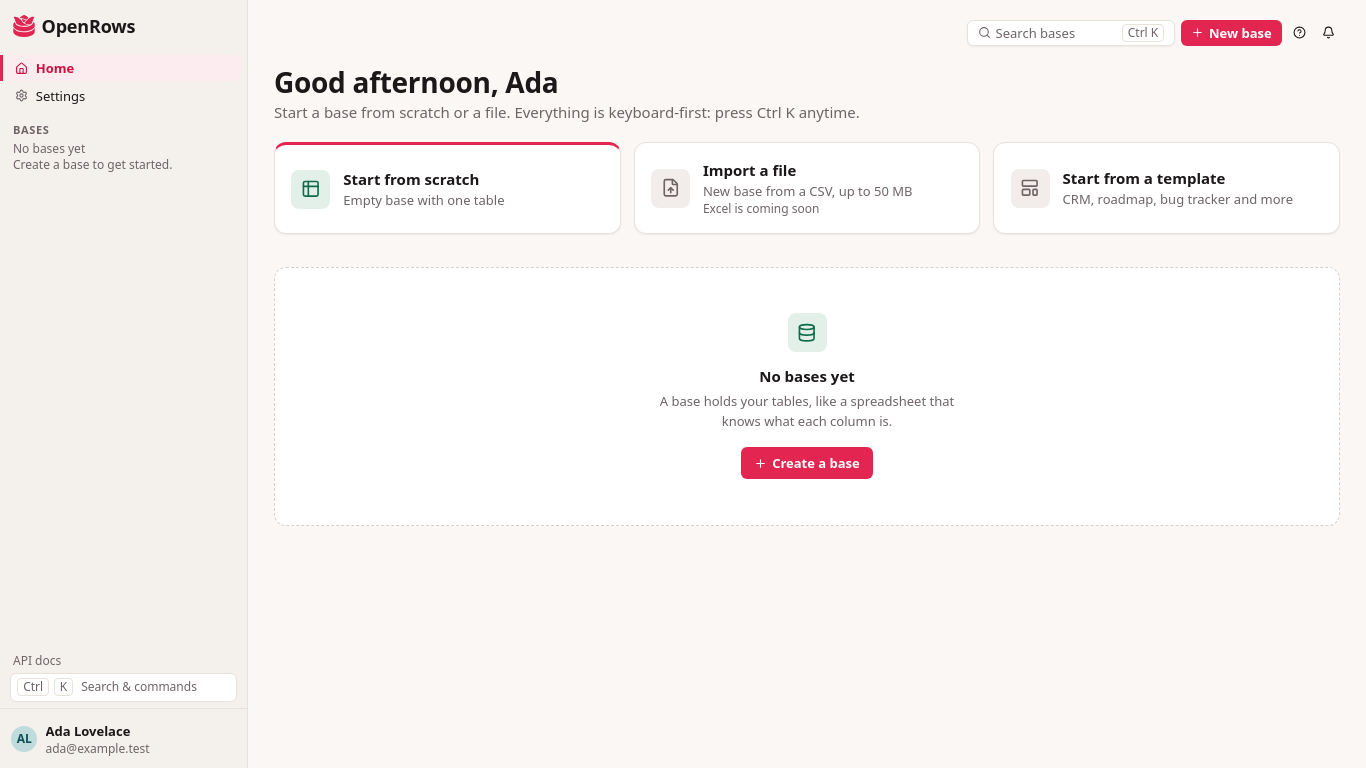
app shell › greets a new user with an empty state, creates a first base and opens it
Expected: the heading "No bases yet" is shown, x1=759 y1=365 x2=855 y2=387
Expected: the heading "Good afternoon, Ada" is shown, x1=274 y1=63 x2=558 y2=101
Click the button "Create a base": [807, 463] box x1=741 y1=447 x2=873 y2=479
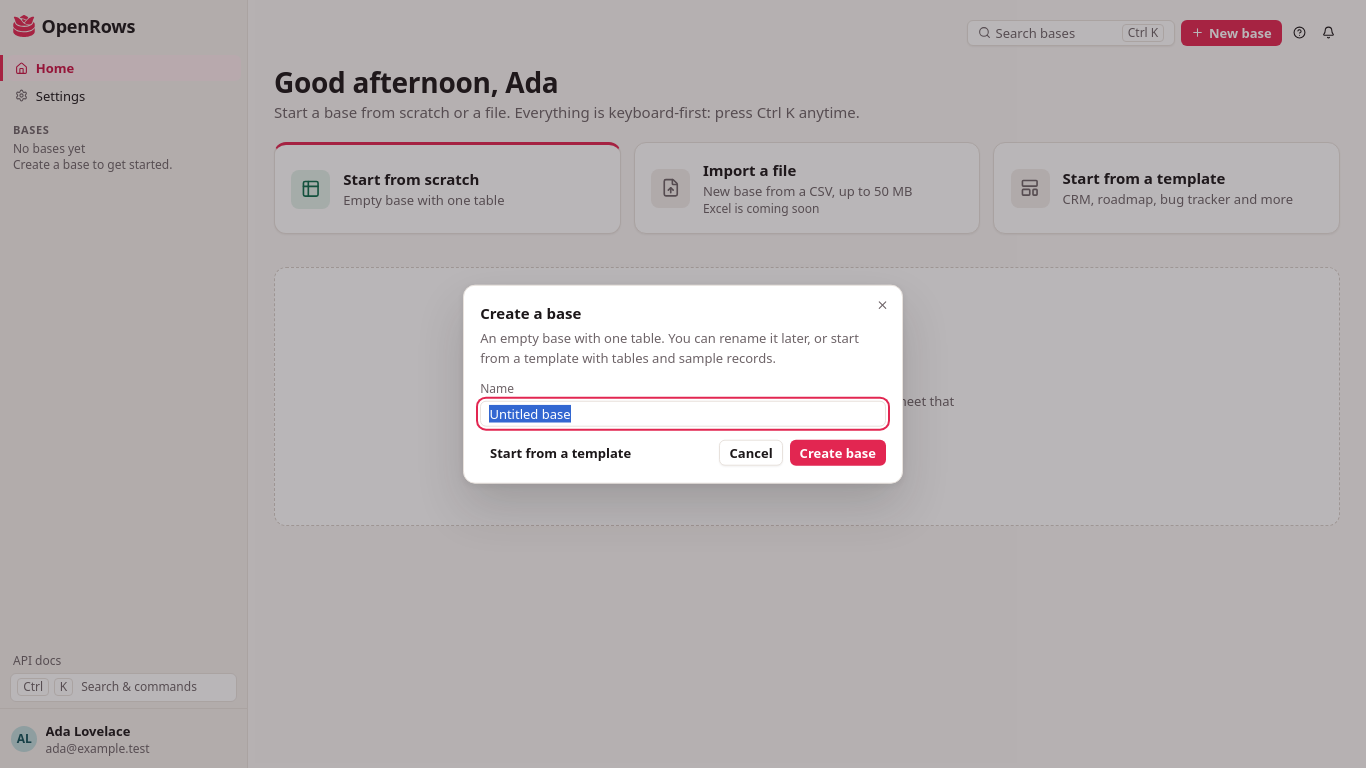
Replace the text in the field labelled "Name" with "Roadmap": [683, 414] box x1=480 y1=401 x2=886 y2=427
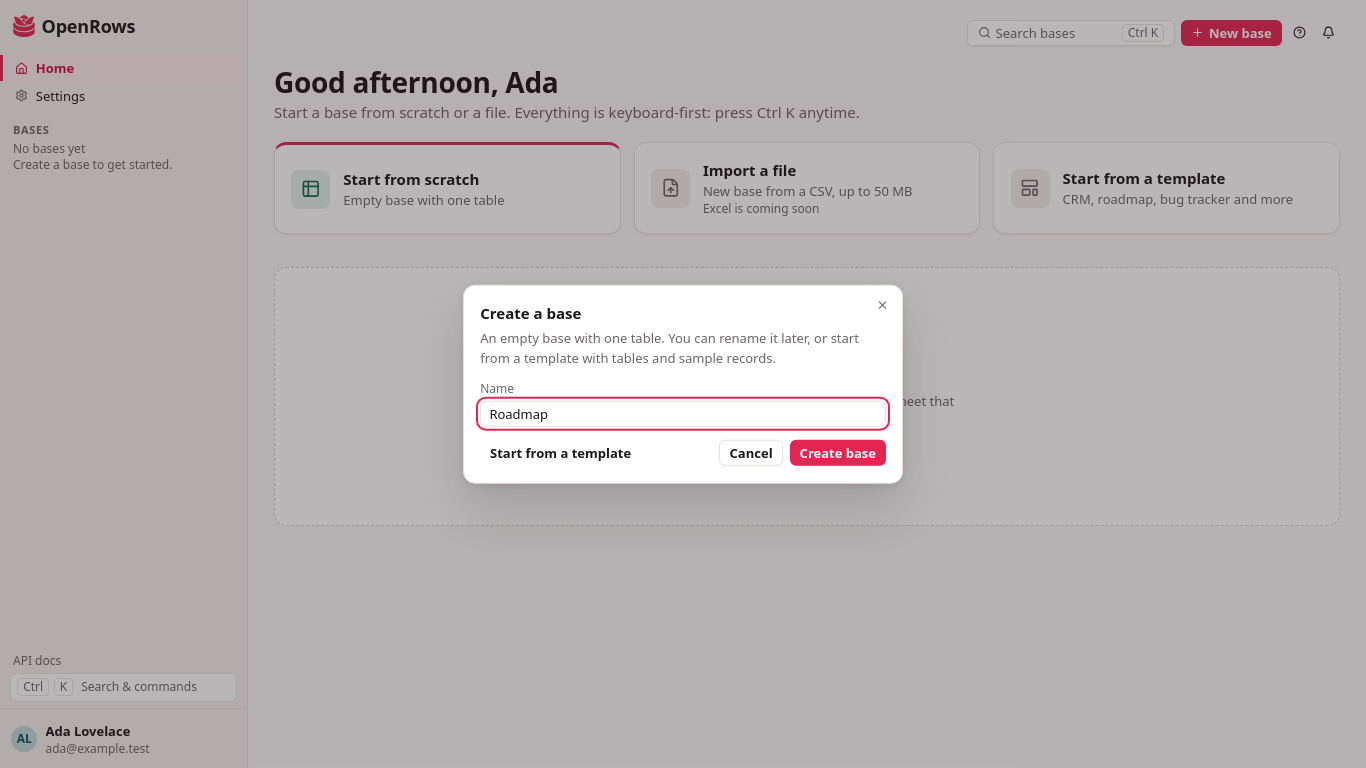
Click the button "Create base": [838, 453] box x1=790 y1=440 x2=886 y2=466
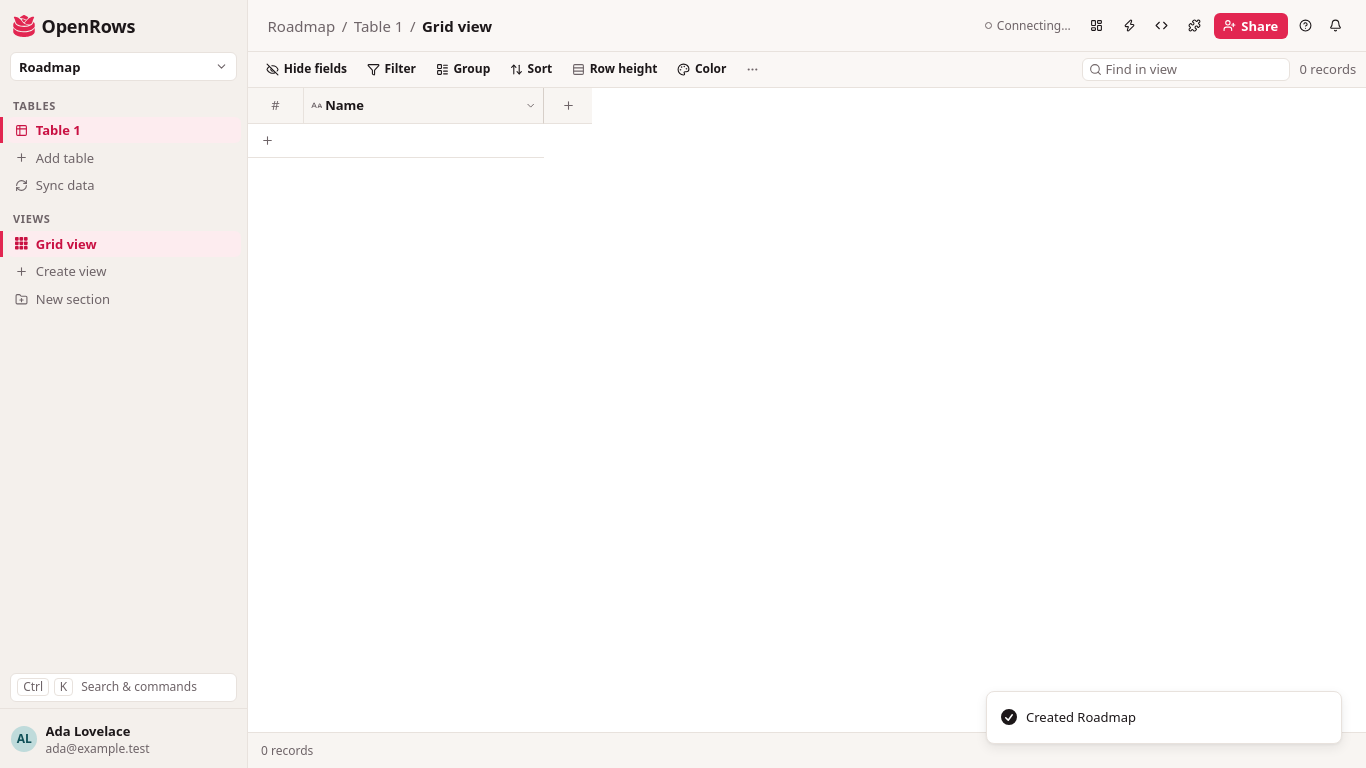
Expected: the column heading "Name" is shown, x1=304 y1=88 x2=544 y2=124
Expected: the link "Grid view" is shown, x1=6 y1=231 x2=240 y2=257
